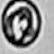correct: (0, 0, 44, 47)
